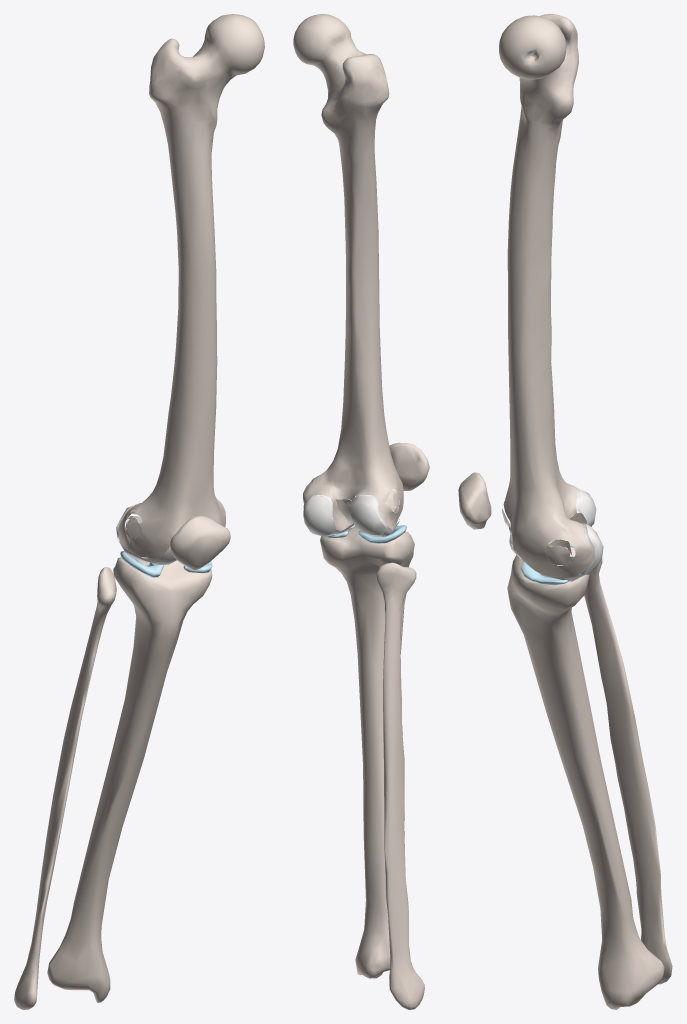
The model's file is vh_m_knee_r.glb.
3 views of the same model, side by side, from view 1: azimuth 30°, elevation 25°; view 2: azimuth 150°, elevation 25°; view 3: azimuth 270°, elevation 25° (orthographic). The views are drawn at different scales.
Visible parts, largest first — view 1: VH_M_femur_R, VH_M_tibia_R, VH_M_fibula_R, VH_M_patella_R, VH_M_meniscus_R; view 2: VH_M_femur_R, VH_M_tibia_R, VH_M_fibula_R, VH_M_patella_R, VH_M_medial_condyle_of_right_femur_inf, VH_M_lateral_condyle_of_femur_inf_R, VH_M_meniscus_R; view 3: VH_M_femur_R, VH_M_tibia_R, VH_M_fibula_R, VH_M_patella_R.
Boxes of the visible parts, <box> form: VH_M_femur_R: <box>118,14,264,558</box>; VH_M_tibia_R: <box>47,557,212,1003</box>; VH_M_fibula_R: <box>14,567,116,1009</box>; VH_M_patella_R: <box>170,515,230,569</box>; VH_M_meniscus_R: <box>120,551,212,577</box>; VH_M_femur_R: <box>293,14,403,528</box>; VH_M_tibia_R: <box>320,526,414,978</box>; VH_M_fibula_R: <box>376,562,424,1009</box>; VH_M_patella_R: <box>389,442,429,490</box>; VH_M_medial_condyle_of_right_femur_inf: <box>303,495,336,535</box>; VH_M_lateral_condyle_of_femur_inf_R: <box>350,496,386,534</box>; VH_M_meniscus_R: <box>324,522,406,543</box>; VH_M_femur_R: <box>499,14,592,577</box>; VH_M_tibia_R: <box>507,540,664,1009</box>; VH_M_fibula_R: <box>584,541,672,984</box>; VH_M_patella_R: <box>458,472,491,529</box>.
Size of the model in its own units: 0.1736 by 0.8875 by 0.1647.
